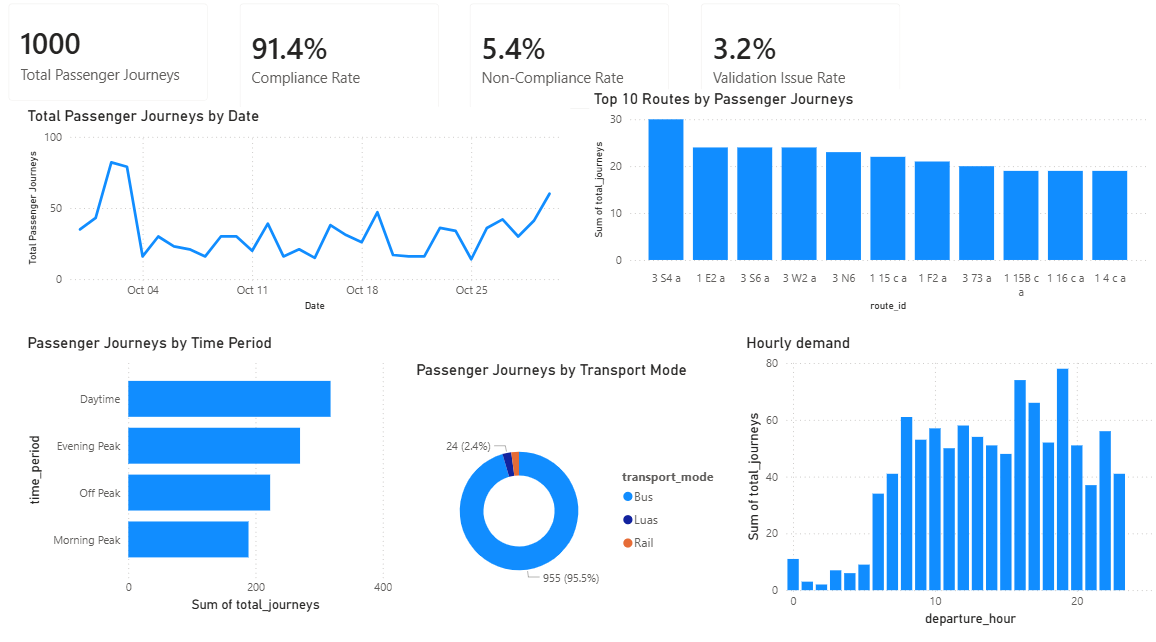

The page's visual inventory and layout, read from the dashboard file:
{"tool":"powerbi","page":{"name":"Transport Overview","canvas":[1280,720],"ordinal":0},"visuals":[{"type":"cardVisual","fields":{"Data":["Dim_Date.Total Passenger Journeys"]},"box":[0,0,253.4,141.4],"z":0},{"type":"cardVisual","fields":{"Data":["Dim_Date.Compliance Rate"]},"box":[253.4,0,253.4,150.3],"z":1000},{"type":"cardVisual","fields":{"Data":["Dim_Date.Non-Compliance Rate"]},"box":[506.8,0,253.4,150.3],"z":2000},{"type":"cardVisual","fields":{"Data":["Dim_Date.Validation Issue Rate"]},"box":[760.2,0,253.4,150.3],"z":3000},{"type":"lineChart","fields":{"Y":["Dim_Date.Total Passenger Journeys"],"Category":["Dim_Date.Date"]},"box":[32.3,130.8,601.2,229.3],"z":4000},{"type":"clusteredBarChart","title":"Passenger Journeys by Time Period","fields":{"Category":["gold_time_period_summary.time_period"],"Y":["Sum(gold_time_period_summary.total_journeys)"]},"box":[32.3,379.2,410.1,311.6],"z":5000},{"type":"donutChart","title":"Passenger Journeys by Transport Mode","fields":{"Category":["gold_transport_mode_summary.transport_mode"],"Y":["Sum(gold_transport_mode_summary.total_journeys)"]},"box":[460.1,408.6,346.9,311.6],"z":6000},{"type":"clusteredColumnChart","title":"Top 10 Routes by Passenger Journeys","fields":{"Category":["gold_route_summary.route_id"],"Y":["Sum(gold_route_summary.total_journeys)"]},"box":[654.1,111.7,615.9,248.4],"z":7000},{"type":"columnChart","title":"Hourly demand","fields":{"Category":["gold_hourly_demand_summary.departure_hour"],"Y":["Sum(gold_hourly_demand_summary.total_journeys)"]},"box":[821.7,379.2,458.6,326.3],"z":8000}]}

Visuals, with their boxes in screenshot pixels (x1, y1, x2, y2), scaled from the page's 1280x720 canvas onto the 1156x642 screenshot:
cardVisual - Dim_Date.Total Passenger Journeys: x1=0, y1=0, x2=229, y2=126
cardVisual - Dim_Date.Compliance Rate: x1=229, y1=0, x2=458, y2=134
cardVisual - Dim_Date.Non-Compliance Rate: x1=458, y1=0, x2=687, y2=134
cardVisual - Dim_Date.Validation Issue Rate: x1=687, y1=0, x2=915, y2=134
lineChart - Dim_Date.Total Passenger Journeys x Dim_Date.Date: x1=29, y1=117, x2=572, y2=321
"Passenger Journeys by Time Period" clusteredBarChart: x1=29, y1=338, x2=400, y2=616
"Passenger Journeys by Transport Mode" donutChart: x1=416, y1=364, x2=729, y2=641
"Top 10 Routes by Passenger Journeys" clusteredColumnChart: x1=591, y1=100, x2=1147, y2=321
"Hourly demand" columnChart: x1=742, y1=338, x2=1155, y2=629
